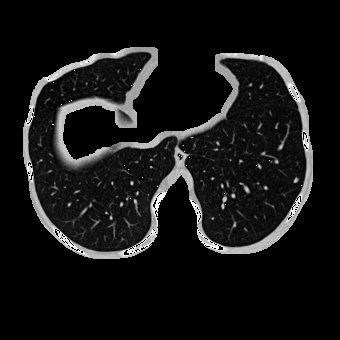PN: (294, 178, 298, 182)
